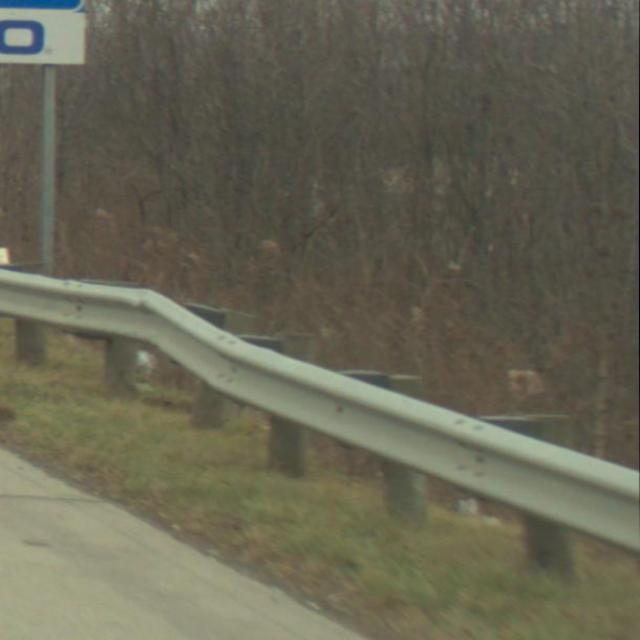Guard rail: (0, 255, 638, 604)
